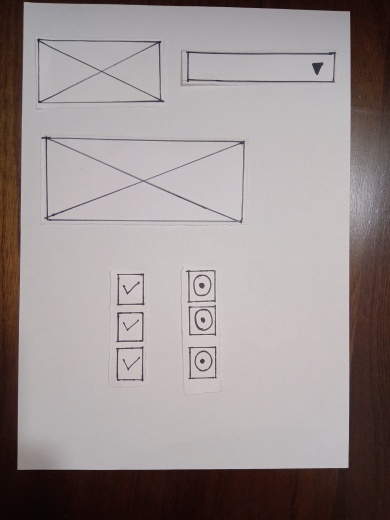checkbox: (117, 276, 145, 304), (115, 310, 143, 338), (115, 350, 143, 378)
dropdown: (186, 53, 333, 81)
img: (44, 136, 243, 223), (39, 38, 161, 105)
radio: (187, 272, 217, 301), (187, 307, 217, 336), (188, 349, 218, 378)
